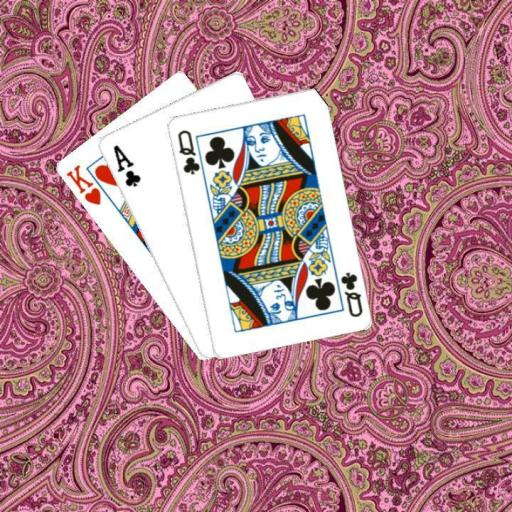card-corner: (62, 161, 102, 207), (110, 142, 142, 188), (174, 126, 201, 176), (337, 268, 364, 318)
